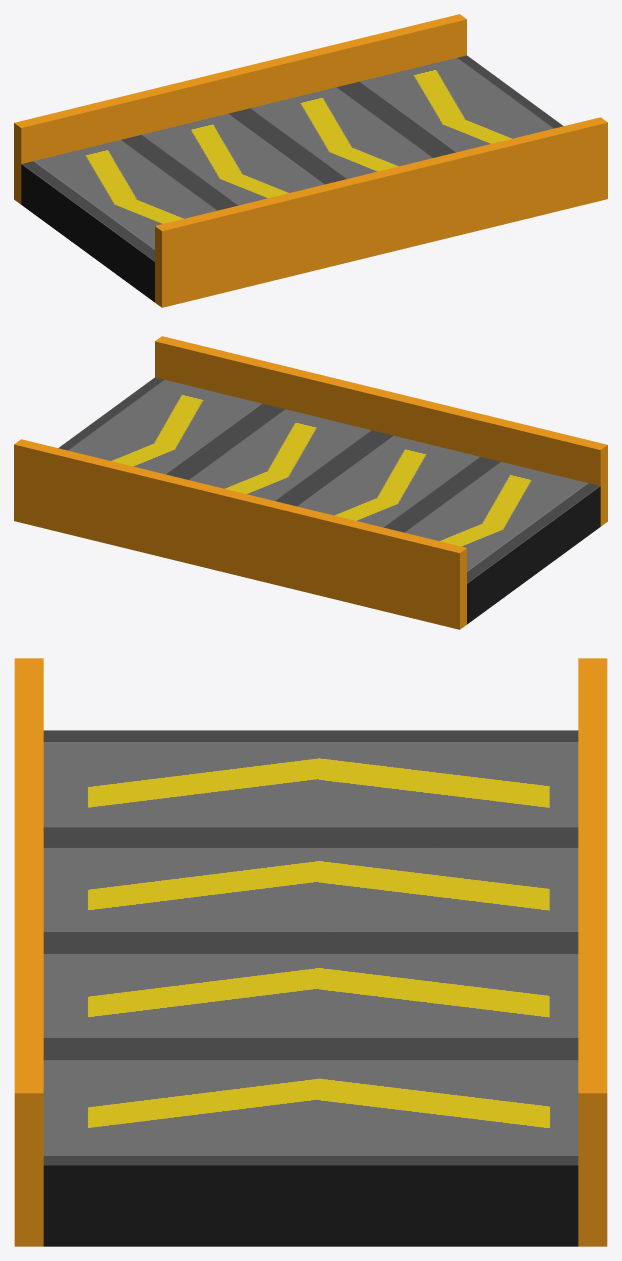
The model's file is conveyor belt.obj.
3 renders of one model, top to bottom at view 1: azimuth 30°, elevation 25°; view 2: azimuth 150°, elevation 25°; view 3: azimuth 270°, elevation 25°, orthographic. The views are drawn at different scales.
Parts seen in each view (by area): view 1: conveyor_belt_Cube; view 2: conveyor_belt_Cube; view 3: conveyor_belt_Cube.
Part boxes in pixels (<box>): conveyor_belt_Cube: <box>14,14,607,307</box>; conveyor_belt_Cube: <box>14,336,607,629</box>; conveyor_belt_Cube: <box>14,658,607,1246</box>.
Bounding box in the file's own units: 1.72 × 0.2826 × 0.99.
